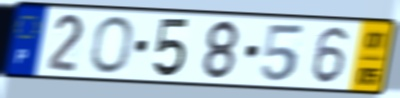2: (45, 12, 85, 74)
5: (258, 23, 308, 83), (152, 17, 191, 79)
6: (310, 25, 351, 86)
8: (200, 17, 244, 83)
O: (88, 14, 135, 76)
